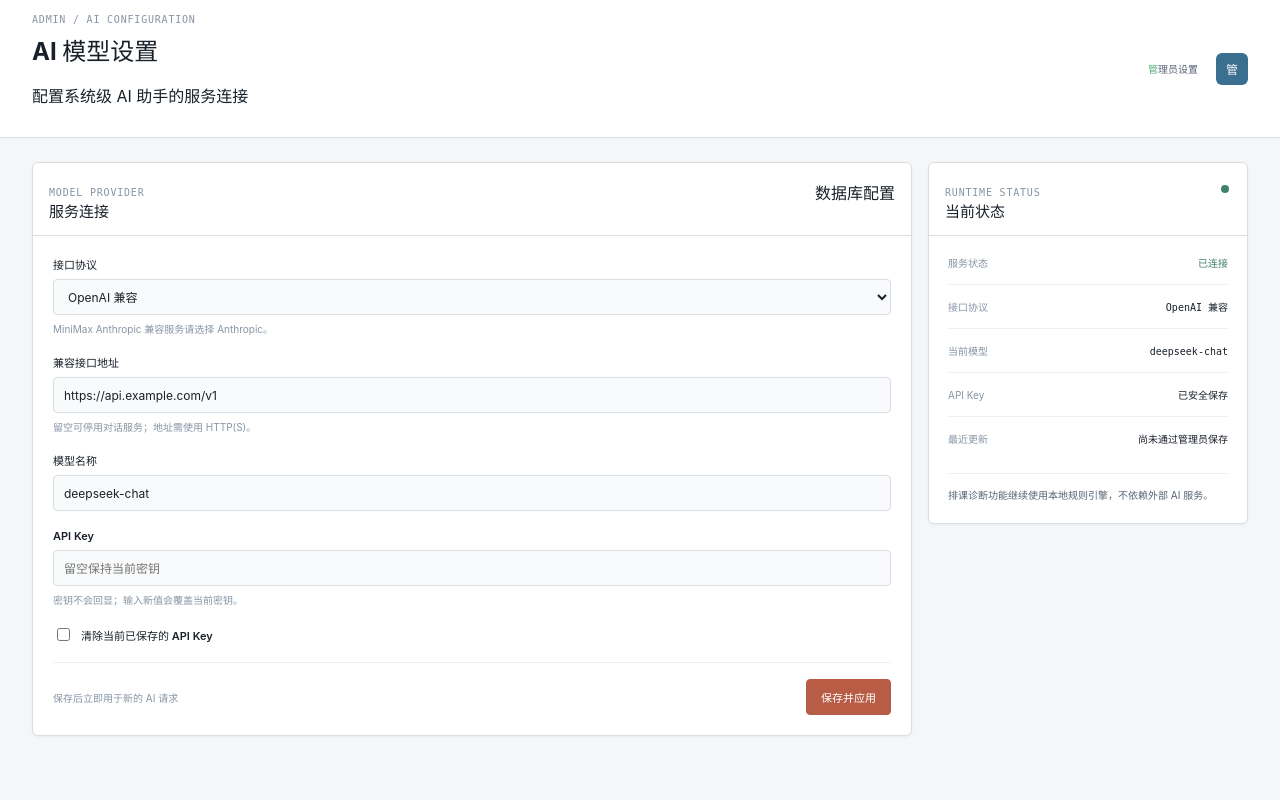
it: AiSettingsView › loads masked admin settings and sends only an explicit replacement key
The image size is (1280, 800).
In the password field labelled "API Key 密钥不会回显；输入新值会覆盖当前密钥。": (472, 568) [53,550,891,586], type "secret-value"
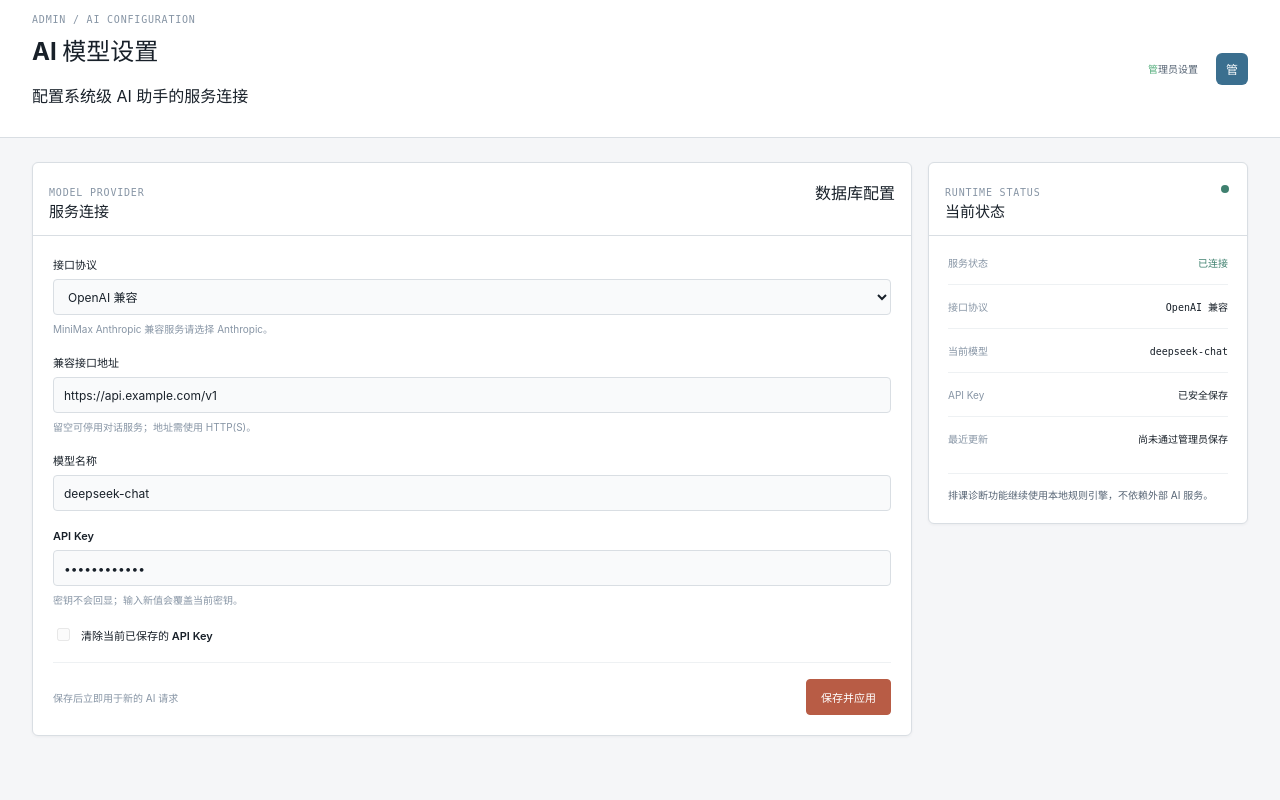
Replace the text in the field with placeholder "例如：deepseek-chat" with "deepseek-reasoner": (472, 493) [53,475,891,511]
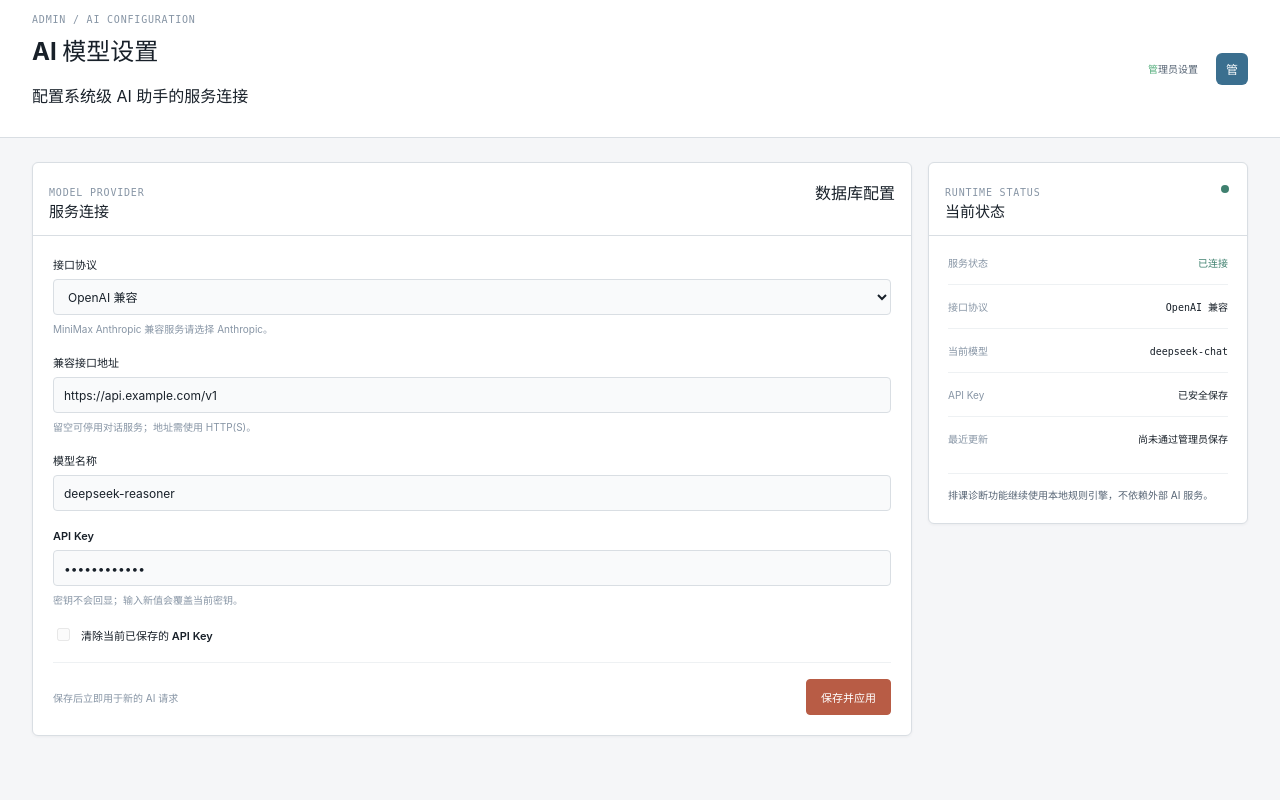
Submit the form, box [33,236,911,735]
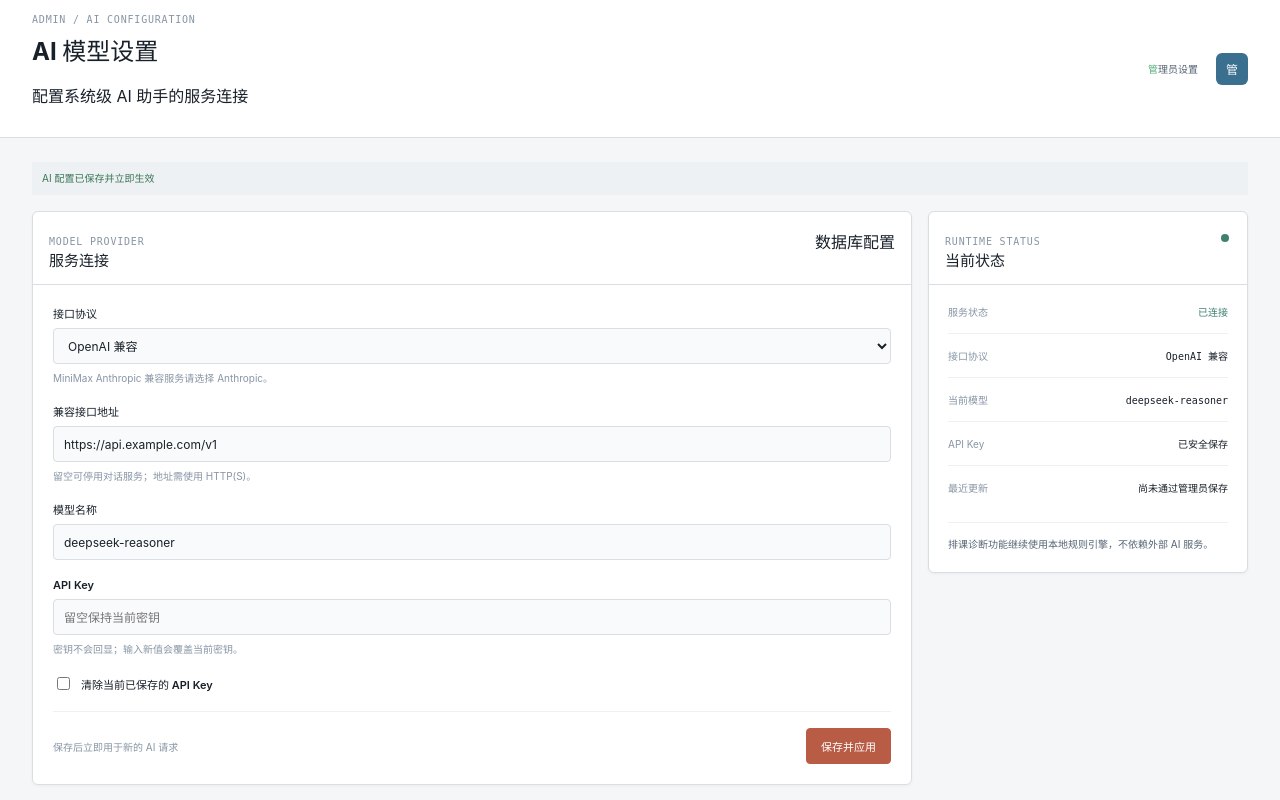
expect the text "AI 配置已保存并立即生效" is shown: met, box [32,162,1248,195]
